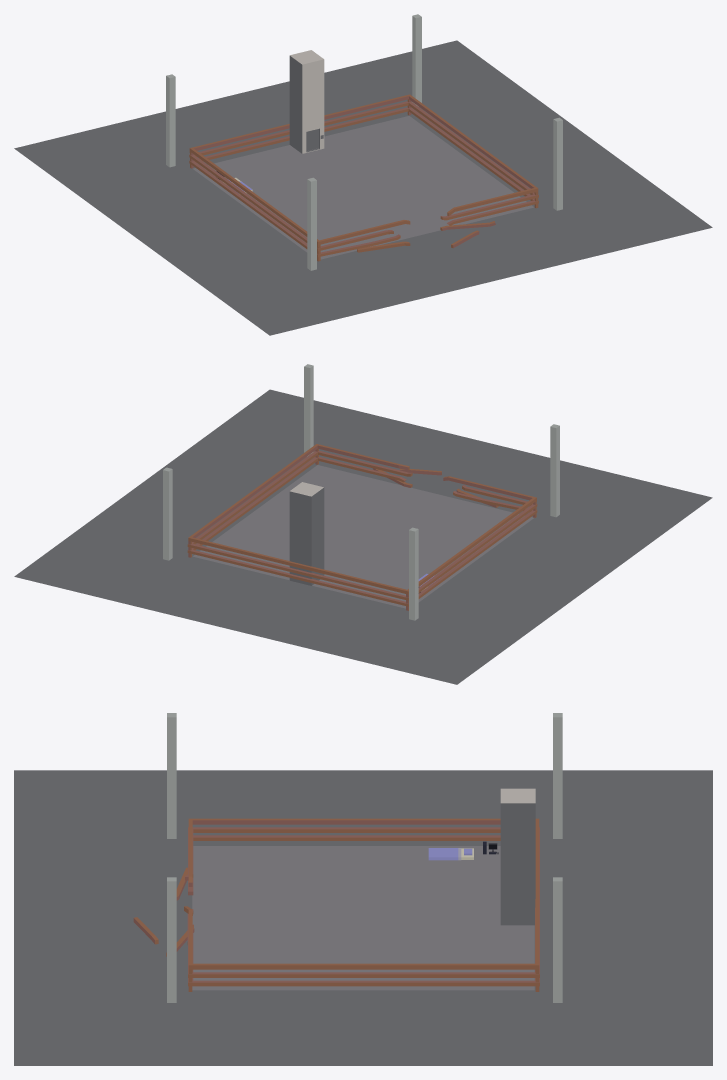
File: Ground.glb
3 views of the same model, one above another, from view 1: azimuth 30°, elevation 25°; view 2: azimuth 150°, elevation 25°; view 3: azimuth 270°, elevation 25° (orthographic). The views are drawn at different scales.
Visible parts, largest first — view 1: GROUND, FENCE, COLUMNS, ELEVATOR; view 2: GROUND, FENCE, COLUMNS, ELEVATOR; view 3: GROUND, FENCE, COLUMNS, ELEVATOR, BED.
Boxes of the visible parts, left/top/right/bottom form: GROUND: left=14, top=40, right=712, bottom=335; FENCE: left=189, top=94, right=538, bottom=261; COLUMNS: left=166, top=14, right=562, bottom=270; ELEVATOR: left=289, top=50, right=324, bottom=153; GROUND: left=14, top=389, right=712, bottom=684; FENCE: left=187, top=444, right=537, bottom=610; COLUMNS: left=163, top=364, right=559, bottom=620; ELEVATOR: left=289, top=482, right=324, bottom=585; GROUND: left=14, top=770, right=712, bottom=1065; FENCE: left=133, top=818, right=539, bottom=991; COLUMNS: left=167, top=713, right=562, bottom=1002; ELEVATOR: left=500, top=788, right=535, bottom=925; BED: left=428, top=848, right=473, bottom=860.
Size of the model in its own units: 42.64 by 8.23 by 42.64.
